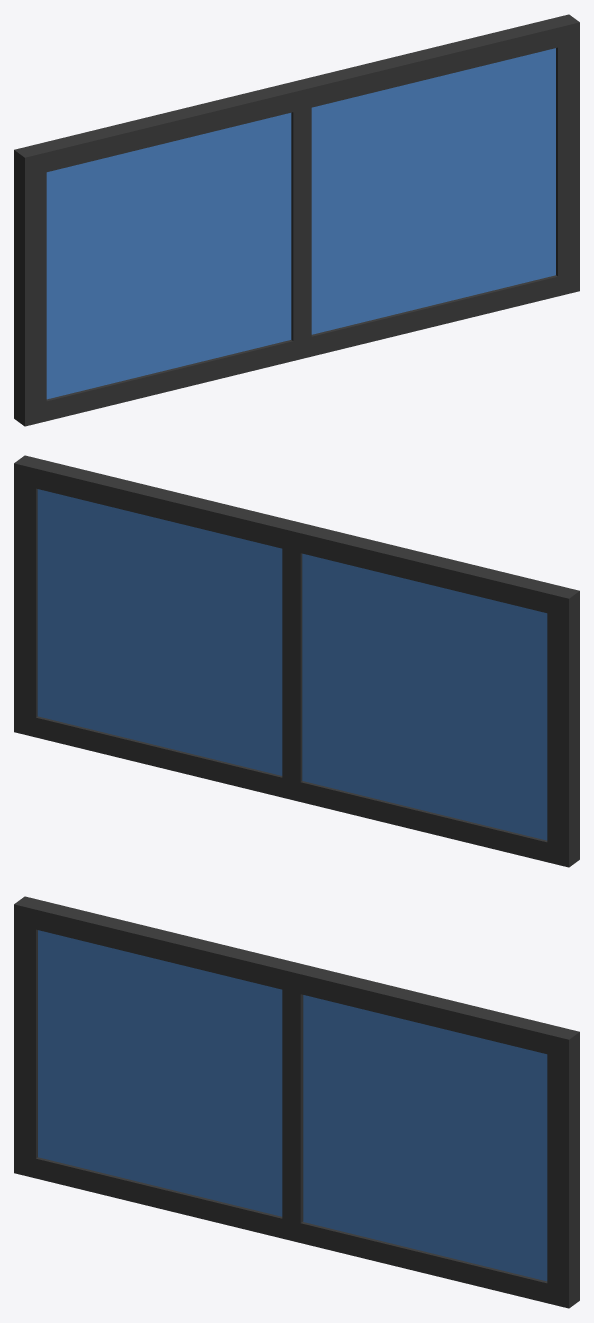
Rendered from Window_20.fbx.
3 renders of one model, top to bottom at view 1: azimuth 30°, elevation 25°; view 2: azimuth 150°, elevation 25°; view 3: azimuth 330°, elevation 25°, orthographic.
Visible parts, largest first — view 1: Window_20; view 2: Window_20; view 3: Window_20.
Part boxes in pixels (box(x1,y1,x2,y2)): Window_20: box(14, 14, 579, 426); Window_20: box(14, 455, 579, 867); Window_20: box(14, 896, 579, 1308).
Size of the model in its own units: 352 by 11.97 by 163.
